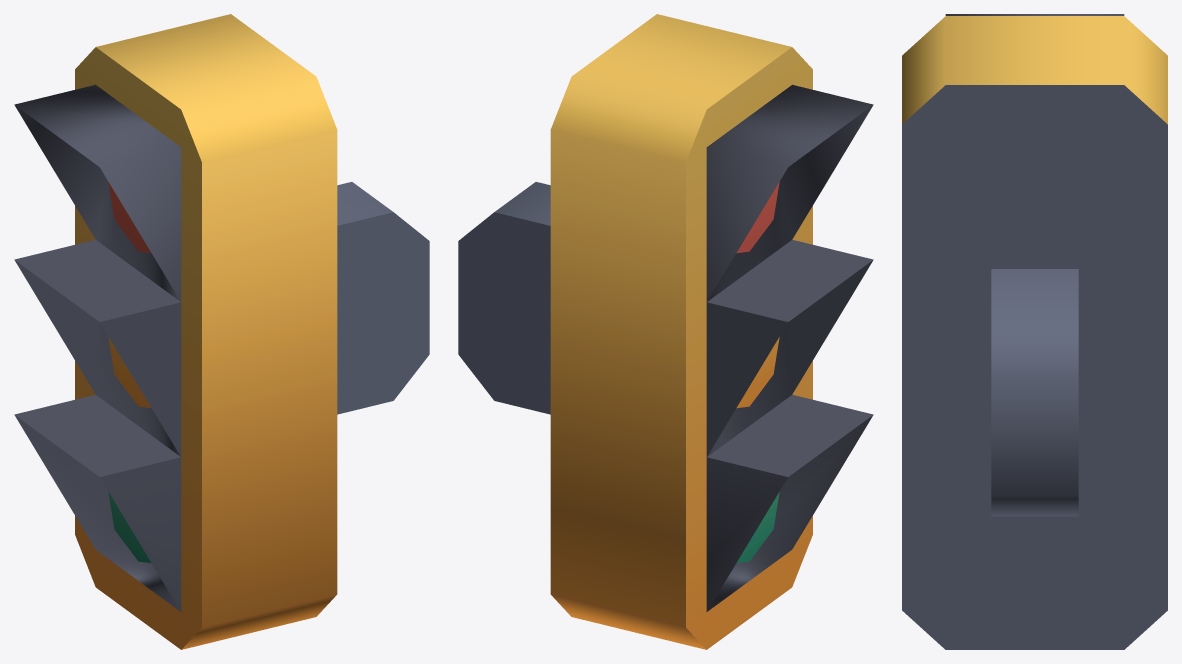
Rendered from traffic-light-object-hanging.glb.
3 renders of one model, left to right at view 1: azimuth 30°, elevation 25°; view 2: azimuth 150°, elevation 25°; view 3: azimuth 270°, elevation 25°, orthographic. The views are drawn at different scales.
Visible parts, largest first — view 1: traffic-light-object-hanging; view 2: traffic-light-object-hanging; view 3: traffic-light-object-hanging.
Boxes of the visible parts, x1=… form: traffic-light-object-hanging: x1=14, y1=14, x2=429, y2=649; traffic-light-object-hanging: x1=458, y1=14, x2=873, y2=649; traffic-light-object-hanging: x1=902, y1=14, x2=1167, y2=649.
Bounding box in the file's own units: 0.0976 × 0.1432 × 0.0611.
Materials: 1 (1 with a texture image).
